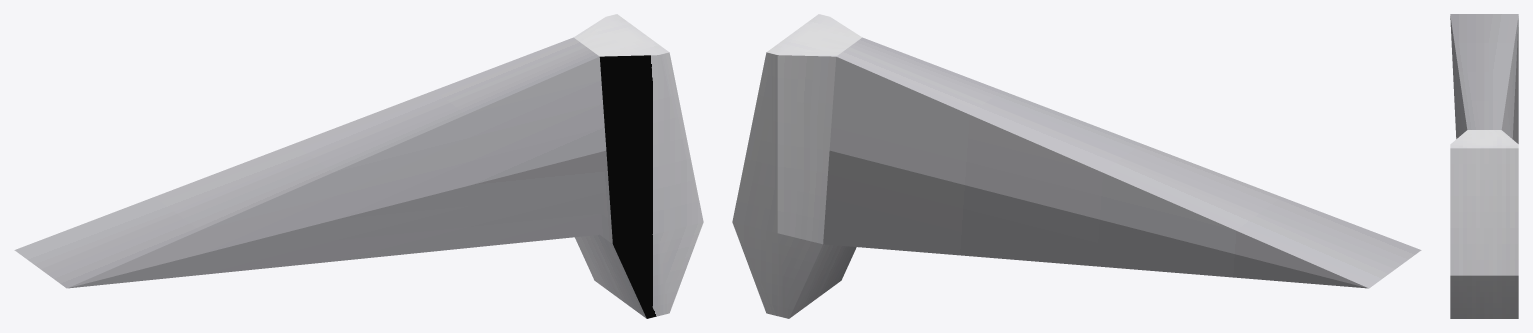
Rendered from rifle.glb.
The picture shows the model from 3 angles, left to right: view 1: azimuth 30°, elevation 25°; view 2: azimuth 150°, elevation 25°; view 3: azimuth 270°, elevation 25°; orthographic projection. The views are drawn at different scales.
Parts seen in each view (by area): view 1: Cube; view 2: Cube; view 3: Cube.
Part boxes in pixels (left/top/right/bottom): Cube: left=14, top=14, right=703, bottom=318; Cube: left=732, top=14, right=1421, bottom=318; Cube: left=1450, top=14, right=1518, bottom=318.
Bounding box in the file's own units: 2.81 × 1.1 × 0.4.
Materials: 1 (1 with a texture image).
